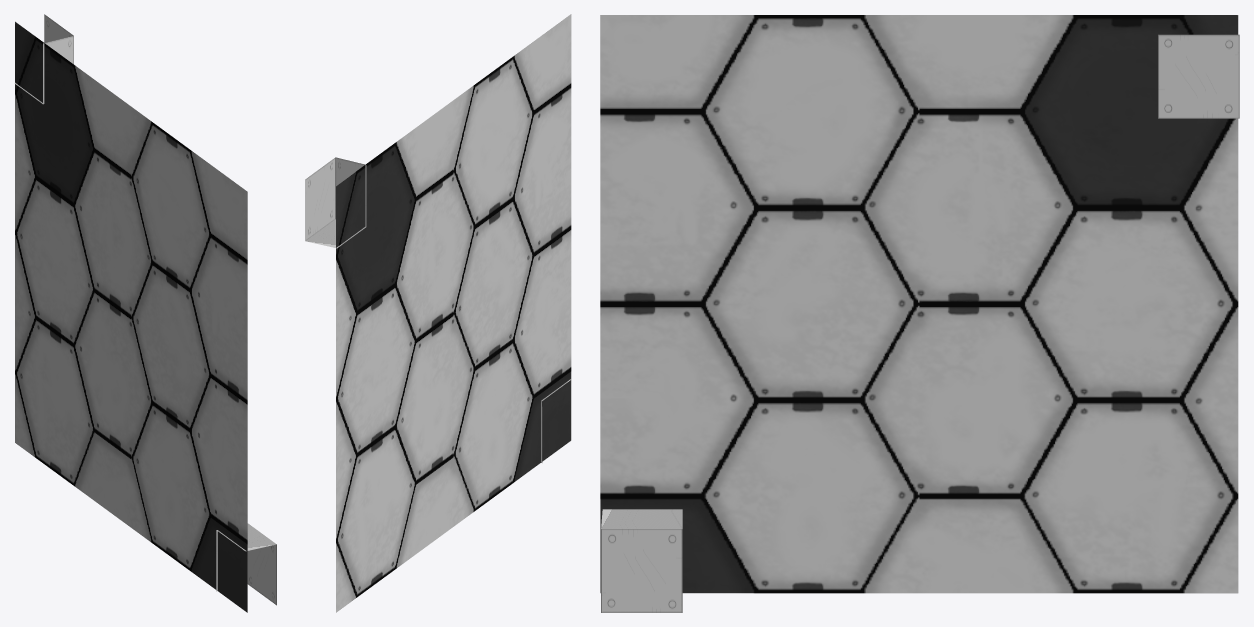
The model's file is Wall_CornerDiag4.fbx.
3 renders of one model, left to right at view 1: azimuth 30°, elevation 25°; view 2: azimuth 150°, elevation 25°; view 3: azimuth 270°, elevation 25°, orthographic. The views are drawn at different scales.
Visible parts, largest first — view 1: pPlane109; view 2: pPlane109; view 3: pPlane109.
Boxes of the visible parts, bbox=[...] form: pPlane109: bbox=[14, 14, 276, 612]; pPlane109: bbox=[305, 14, 571, 612]; pPlane109: bbox=[600, 15, 1239, 612].
Bounding box in the file's own units: 0.1534 × 2 × 2.
